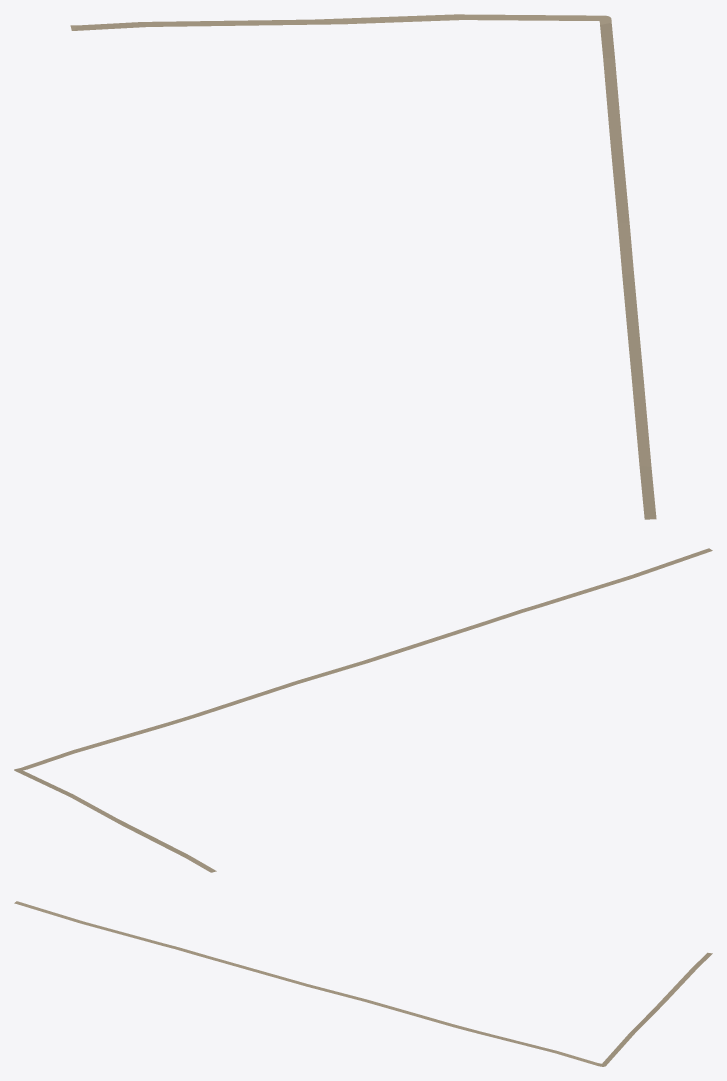
Rendered from farm_11_12_track.glb.
The picture shows the model from 3 angles, top to bottom: view 1: azimuth 30°, elevation 25°; view 2: azimuth 150°, elevation 25°; view 3: azimuth 270°, elevation 25°; orthographic projection. The views are drawn at different scales.
Parts seen in each view (by area): view 1: geometry_0; view 2: geometry_0; view 3: geometry_0.
Boxes of the visible parts, x1,y1,x2,y2 form: geometry_0: (70, 14, 656, 519); geometry_0: (14, 548, 712, 872); geometry_0: (14, 901, 712, 1066).
Bounding box in the file's own units: 176 × 19 × 385.
